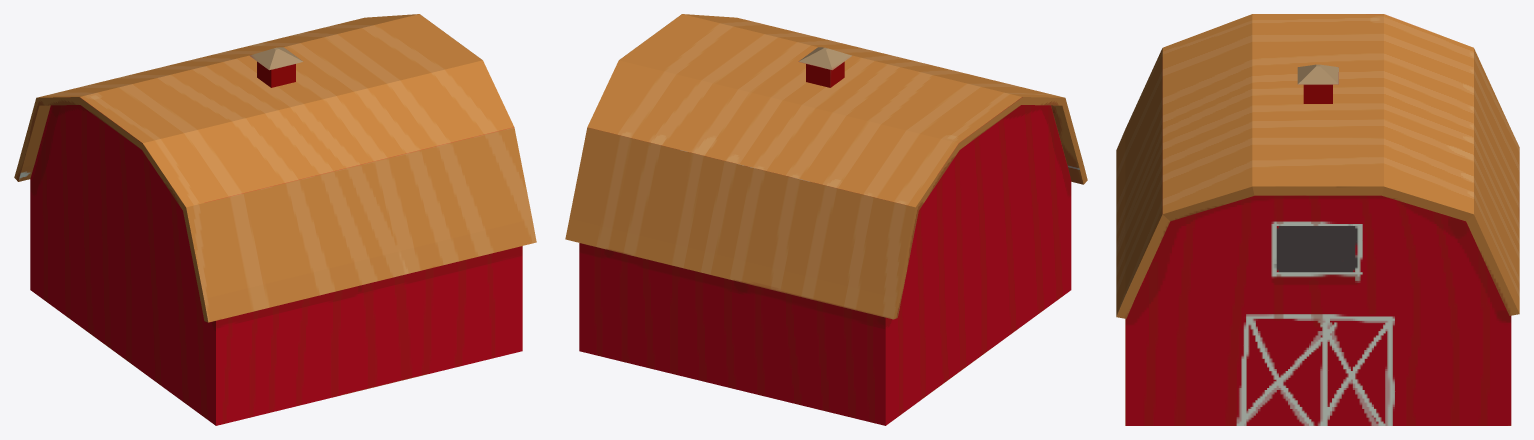
The model's file is barn.glb.
The picture shows the model from 3 angles, left to right: view 1: azimuth 30°, elevation 25°; view 2: azimuth 150°, elevation 25°; view 3: azimuth 270°, elevation 25°; orthographic projection. The views are drawn at different scales.
Parts seen in each view (by area): view 1: Cube.014; view 2: Cube.014; view 3: Cube.014.
Boxes of the visible parts, bbox=[...] form: Cube.014: bbox=[14, 14, 536, 425]; Cube.014: bbox=[565, 14, 1087, 425]; Cube.014: bbox=[1116, 14, 1519, 425].
Bounding box in the file's own units: 1.36 × 1.04 × 1.34.
Materials: 1 (1 with a texture image).
